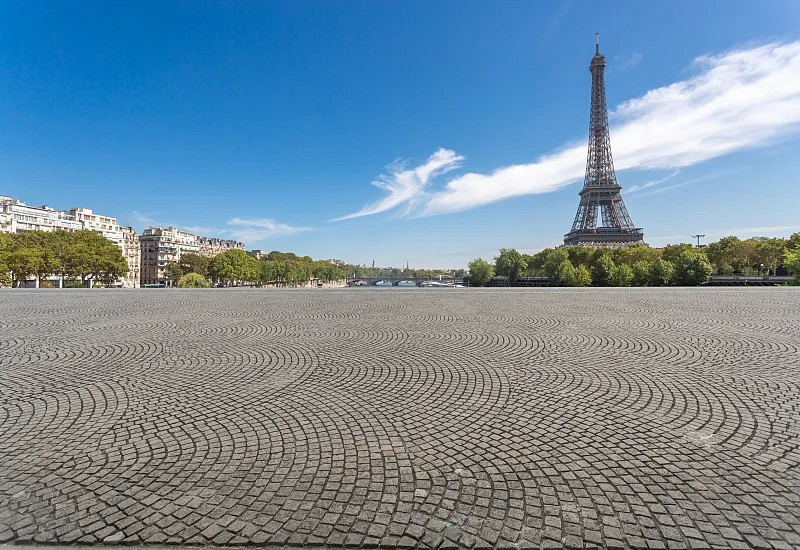Eiffel: (564, 33, 649, 247)
